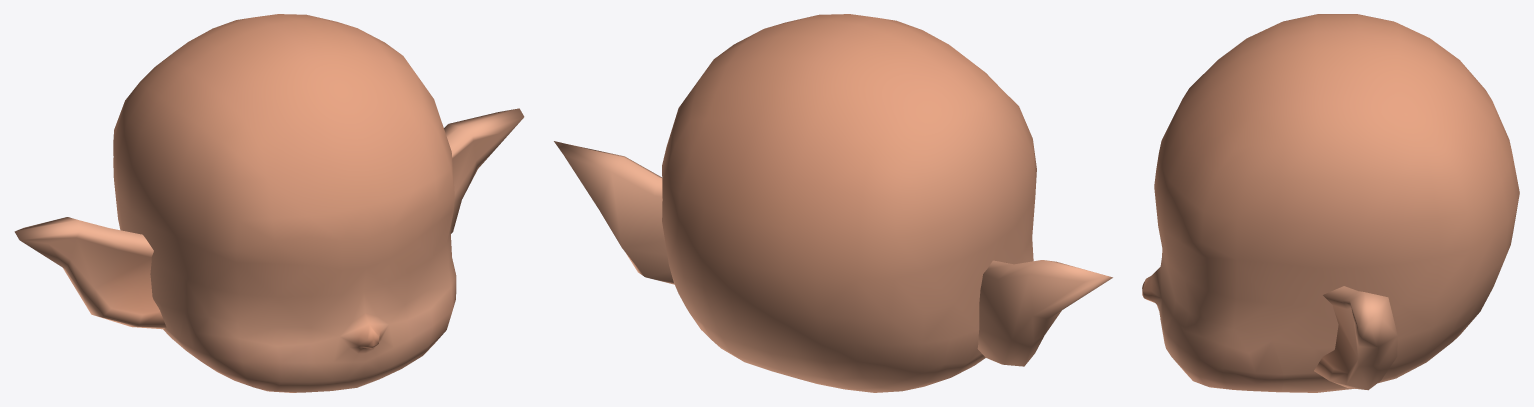
The model's file is Body_Yellow_Head_2.fbx.
3 views of the same model, side by side, from view 1: azimuth 30°, elevation 25°; view 2: azimuth 150°, elevation 25°; view 3: azimuth 270°, elevation 25° (orthographic). The views are drawn at different scales.
Parts seen in each view (by area): view 1: Body_Yellow_Head_2; view 2: Body_Yellow_Head_2; view 3: Body_Yellow_Head_2.
Part boxes in pixels (x1,y1,x2,y2): Body_Yellow_Head_2: (14, 14, 524, 392); Body_Yellow_Head_2: (554, 14, 1112, 392); Body_Yellow_Head_2: (1142, 14, 1519, 392).
Size of the model in its own units: 88.45 by 52.19 by 53.9.
